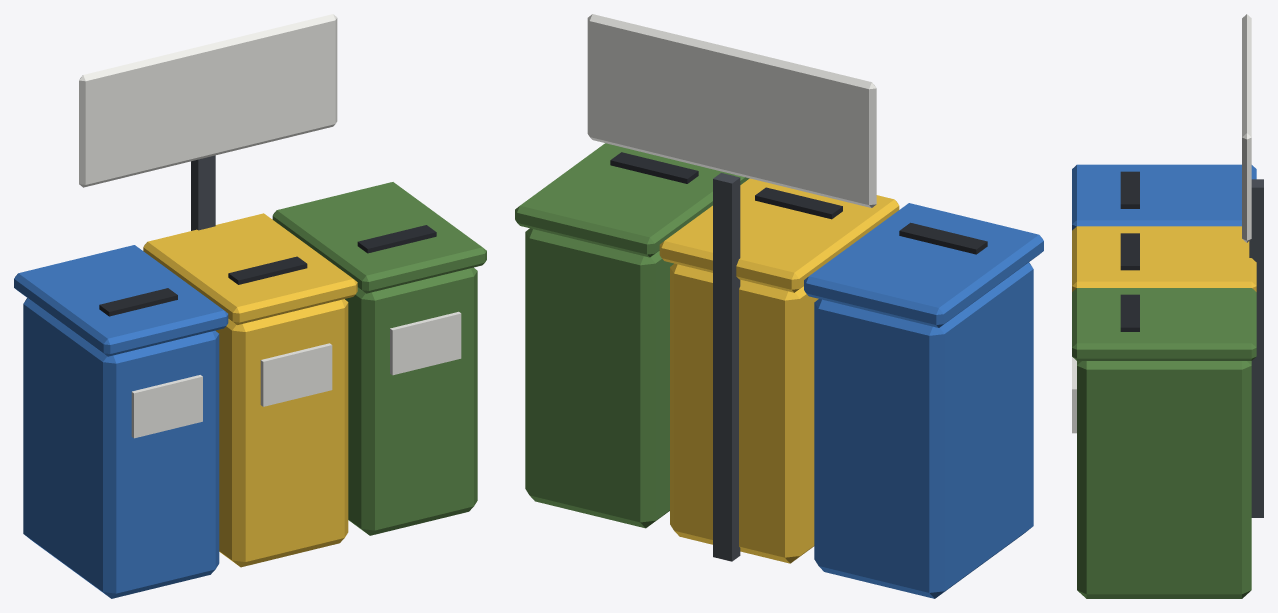
The model's file is recycle_bins.glb.
3 views of the same model, side by side, from view 1: azimuth 30°, elevation 25°; view 2: azimuth 150°, elevation 25°; view 3: azimuth 270°, elevation 25° (orthographic). The views are drawn at different scales.
Visible parts, largest first — view 1: recycle_bins_mesh; view 2: recycle_bins_mesh; view 3: recycle_bins_mesh.
Boxes of the visible parts, x1,y1,x2,y2 form: recycle_bins_mesh: [14, 14, 486, 598]; recycle_bins_mesh: [515, 14, 1043, 598]; recycle_bins_mesh: [1072, 14, 1263, 598].
Bounding box in the file's own units: 0.89 × 1 × 0.395.
